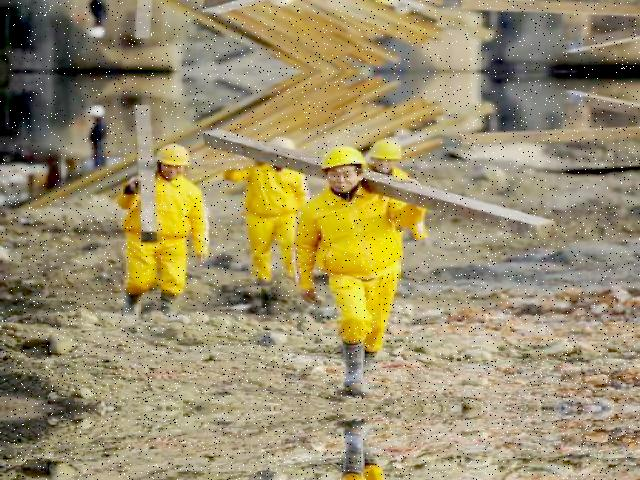Helmet: (314, 142, 366, 175), (148, 140, 194, 171), (368, 134, 402, 164)
